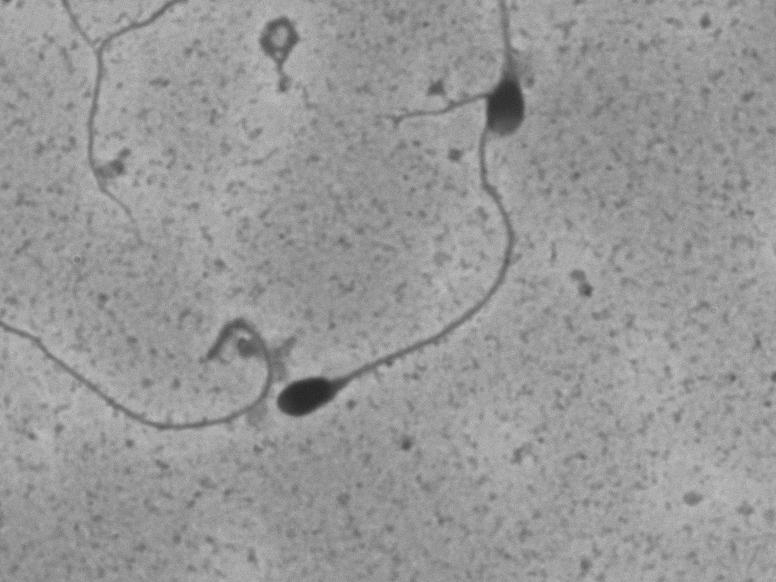Abnormal: (468, 16, 552, 141)
Normal: (259, 88, 528, 431)
